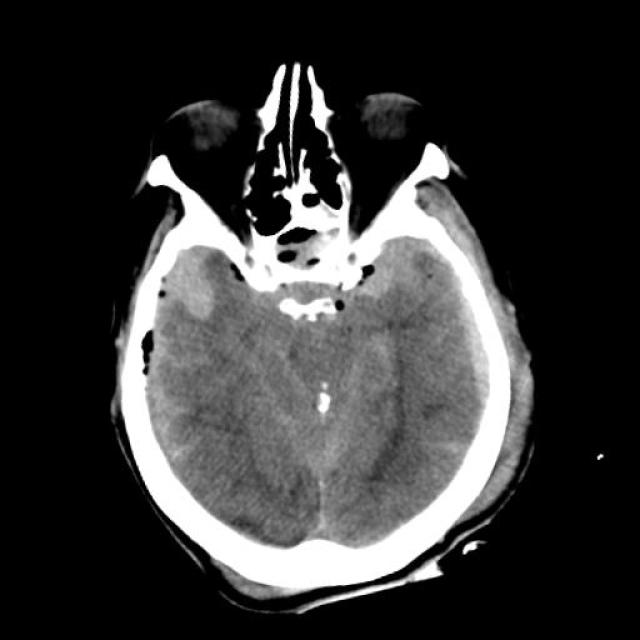Intraparenchymal: (141, 239, 225, 326)
Subarachnoid: (136, 378, 230, 482), (138, 321, 222, 390), (410, 423, 481, 482)
Subdural: (426, 227, 534, 422)
